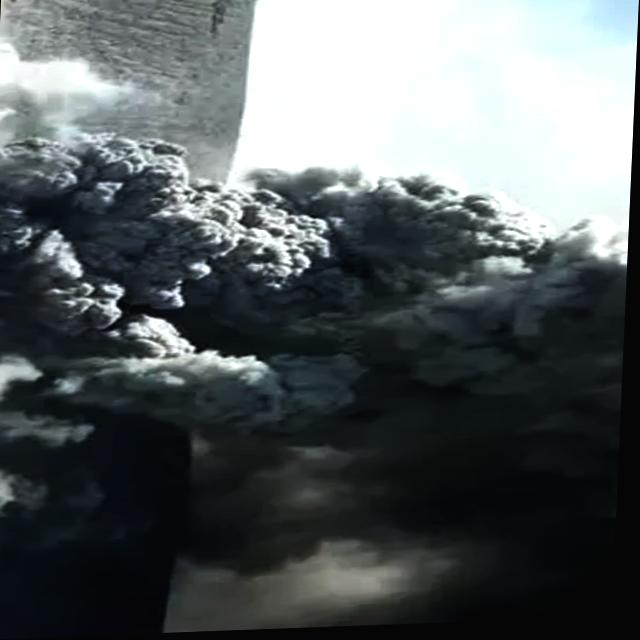no_helmet: (0, 117, 635, 640)
